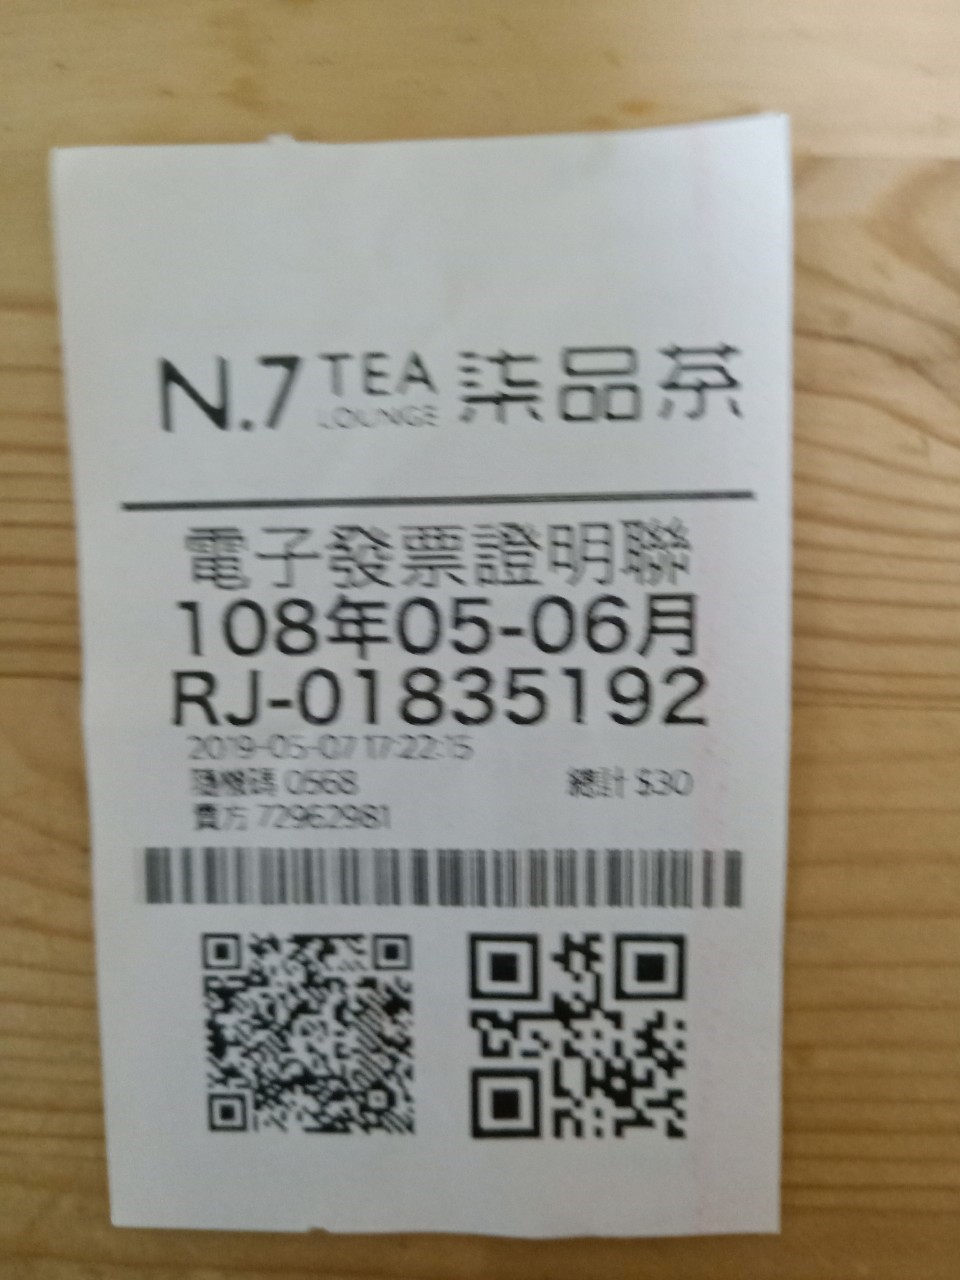Date_New: (169, 588, 703, 658)
Number_New: (290, 663, 713, 729)
